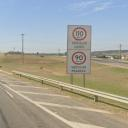speed_limit_110: (71, 27, 88, 41)
